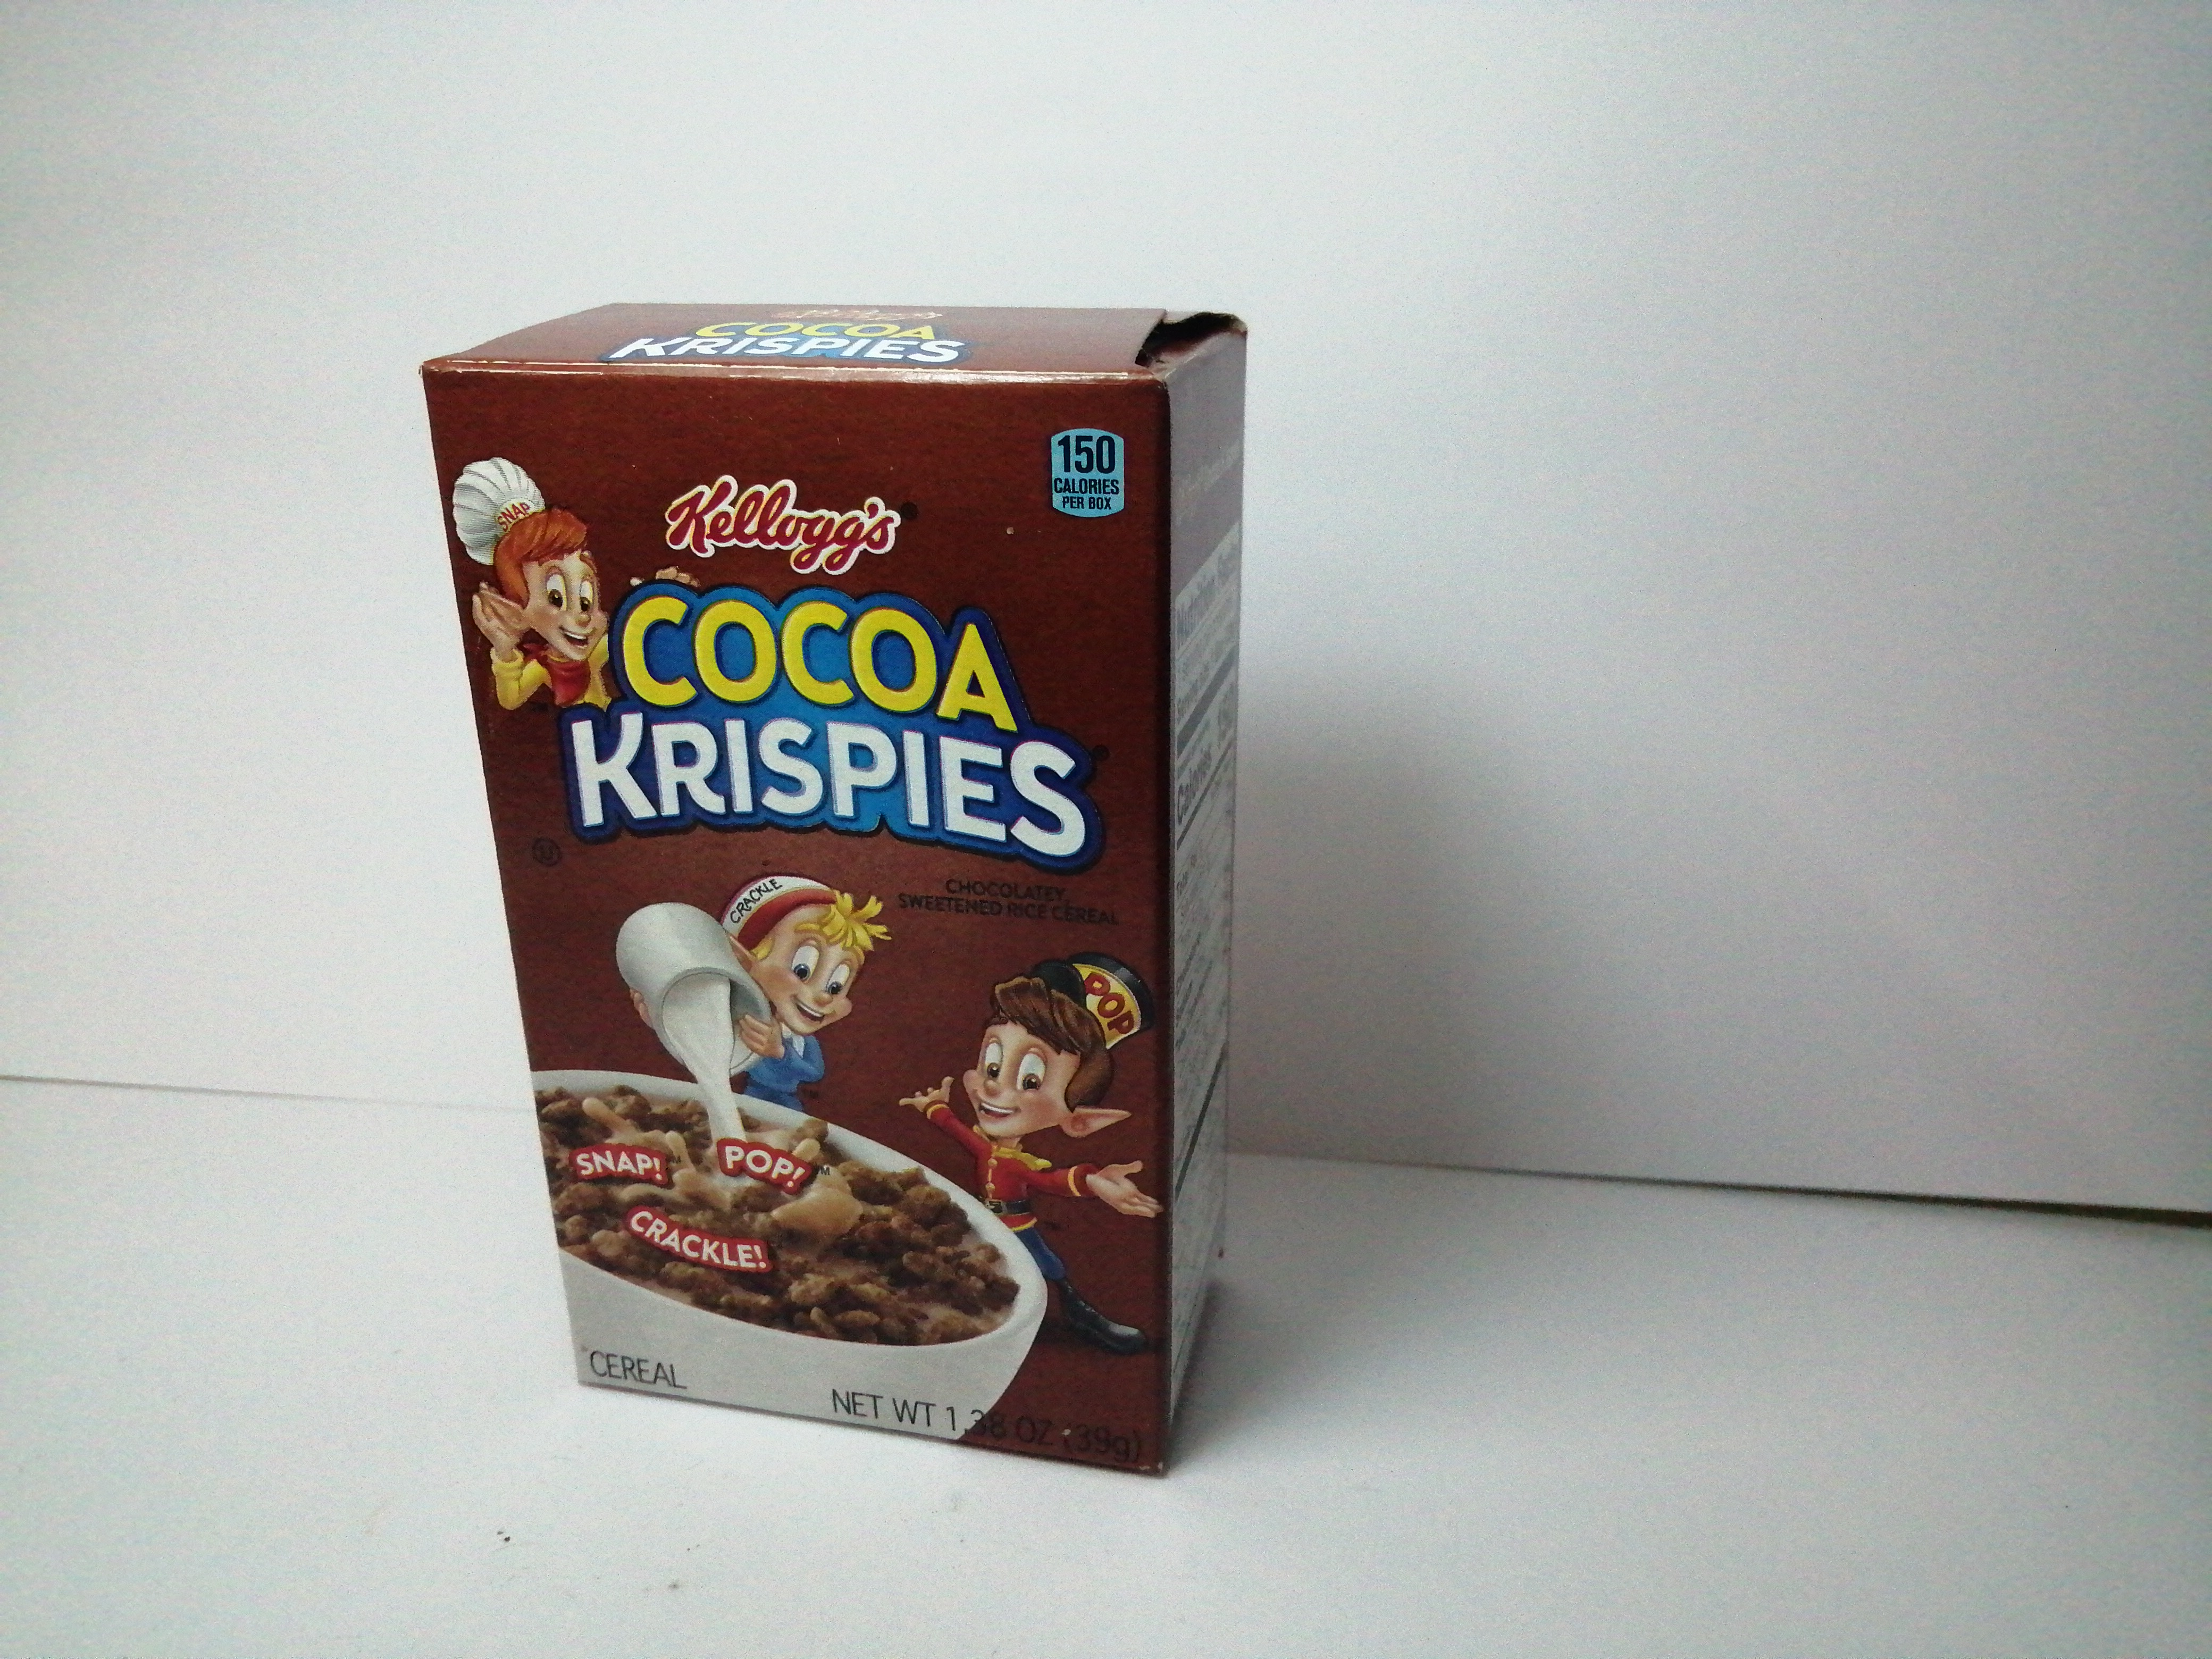cereal chocolate: (415, 274, 1278, 1480)
